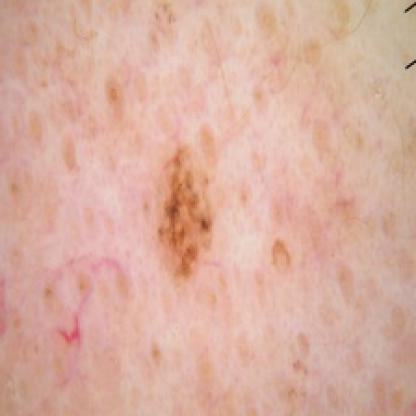malignant: (141, 134, 245, 302)
